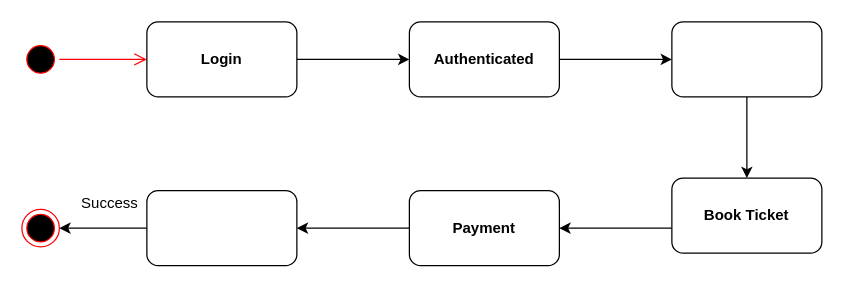
The diagram is 844 pixels wide and 288 high, and some of its shapes have lost their labels. Each missing label, with the centre of its shape:
Check Availability: the point at 746,59
Confirmation: the point at 221,227
